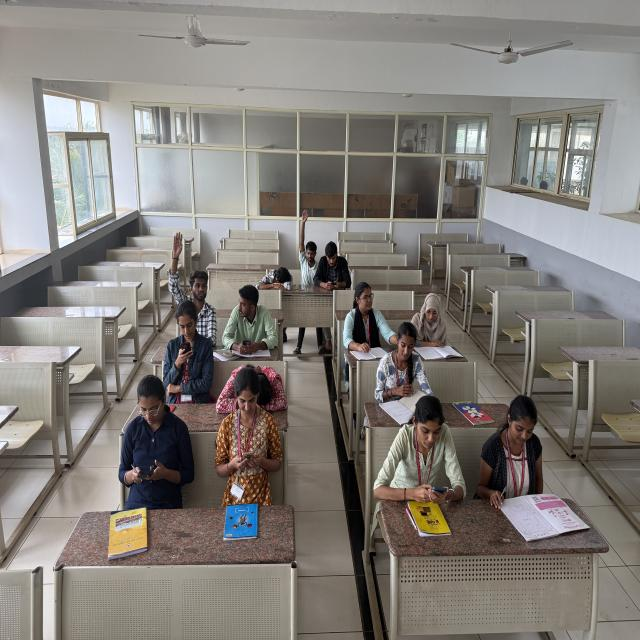Reading: (412, 278, 469, 366)
Sleeping: (256, 252, 298, 301)
Using Phone: (377, 391, 470, 534), (116, 371, 196, 516), (209, 364, 285, 513), (163, 298, 218, 404), (218, 285, 286, 363), (314, 234, 354, 295)
Writing: (476, 384, 585, 540)
